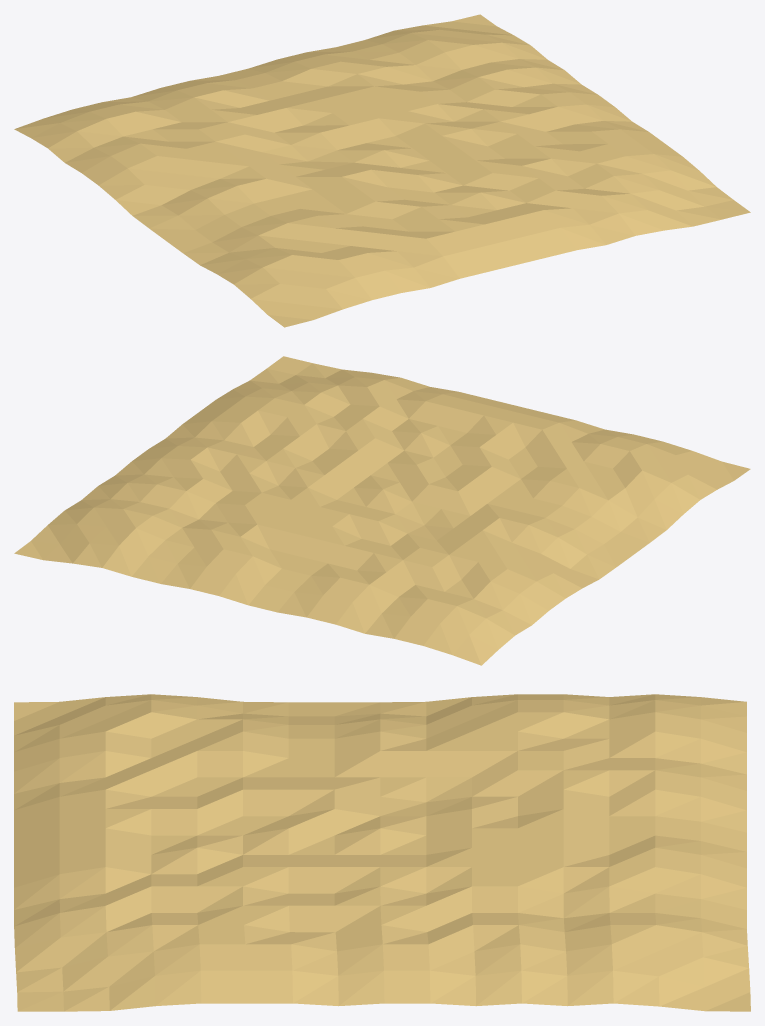
The model's file is ground7.fbx.
The picture shows the model from 3 angles, top to bottom: view 1: azimuth 30°, elevation 25°; view 2: azimuth 150°, elevation 25°; view 3: azimuth 270°, elevation 25°; orthographic projection. The views are drawn at different scales.
Parts seen in each view (by area): view 1: Plane; view 2: Plane; view 3: Plane.
Boxes of the visible parts, x1=… form: Plane: x1=14, y1=14, x2=750, y2=327; Plane: x1=14, y1=356, x2=750, y2=665; Plane: x1=14, y1=694, x2=750, y2=1011.
Bounding box in the file's own units: 99.9 × 4.34 × 101.
1 material, 1 textured.
